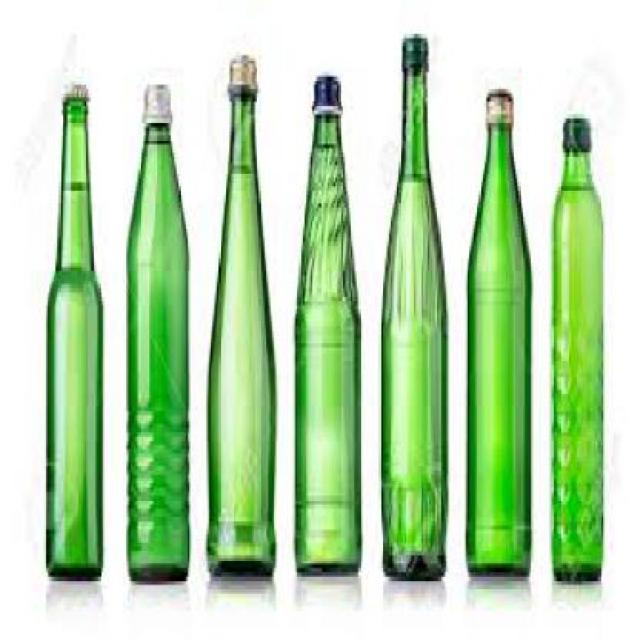kaca: (380, 63, 446, 572), (204, 89, 274, 568), (123, 119, 188, 582), (296, 111, 358, 577), (466, 123, 529, 572), (45, 94, 100, 577), (552, 145, 602, 577)
